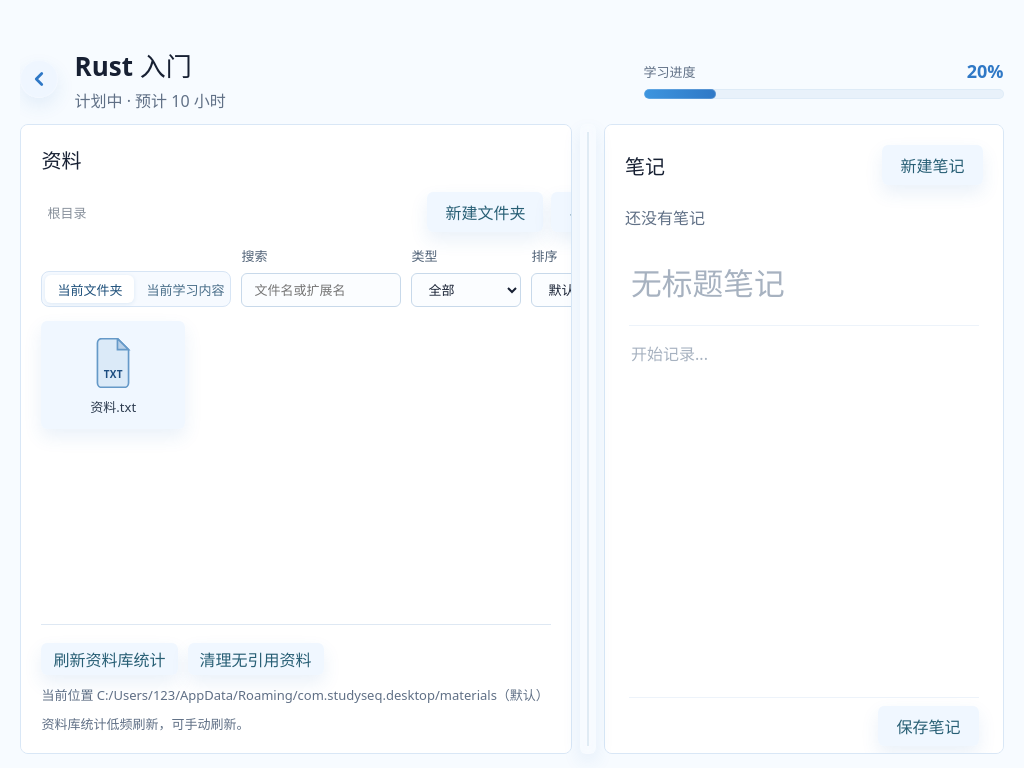
Test: StudyDetailPage › creates a plain-text note and appends it to the list
The width and height of the screenshot is (1024, 768).
expect the text "还没有笔记" is shown: met, box [625,207,705,229]
In the field named "笔记标题": (804, 285) [629,257,978,313], type "第一条笔记"
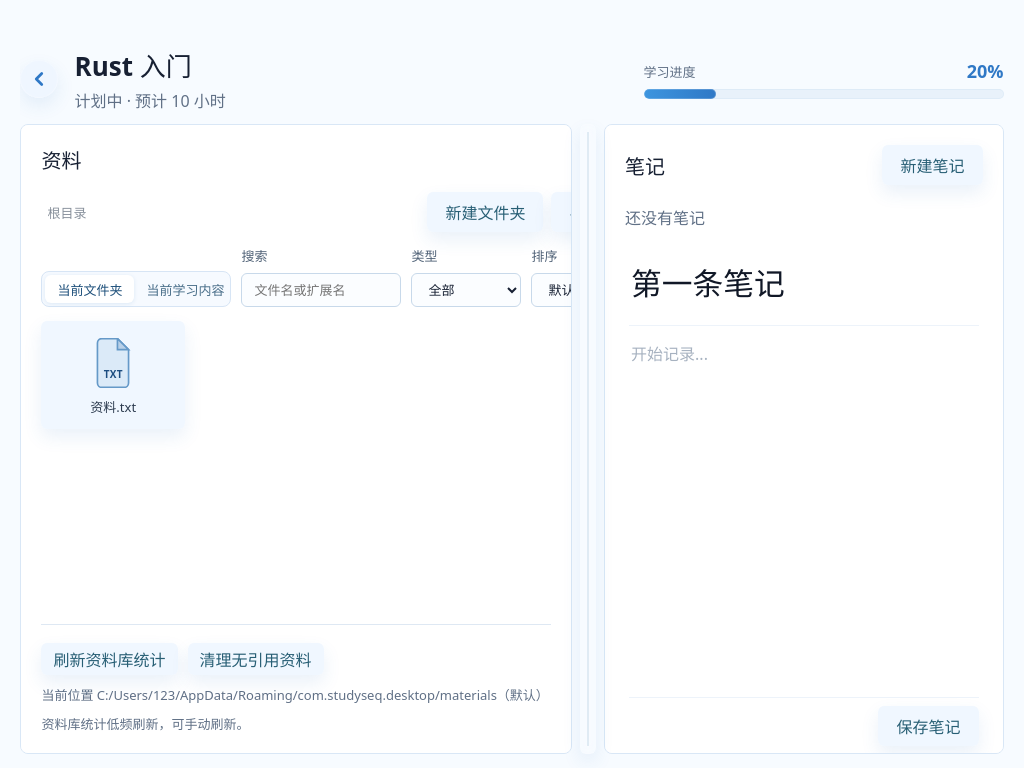
In the text box named "笔记正文": (804, 505) [629,325,978,685], type "纯文本正文"
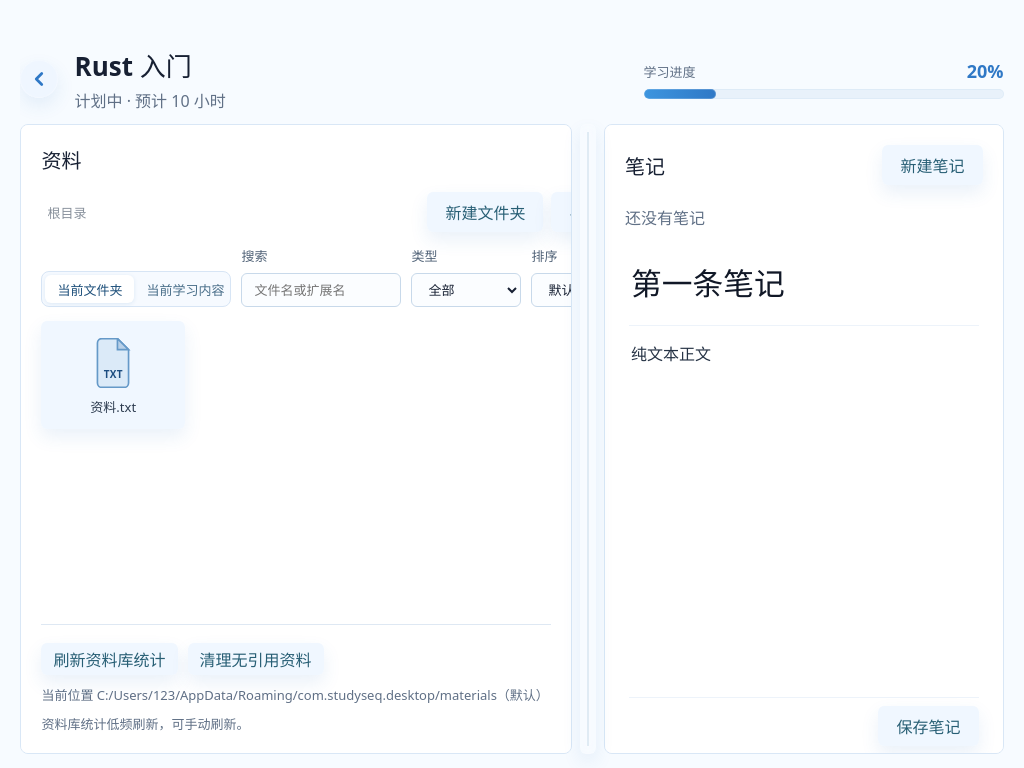
Click the button "保存笔记": (928, 726) [878,706,978,746]
(page scrolled)
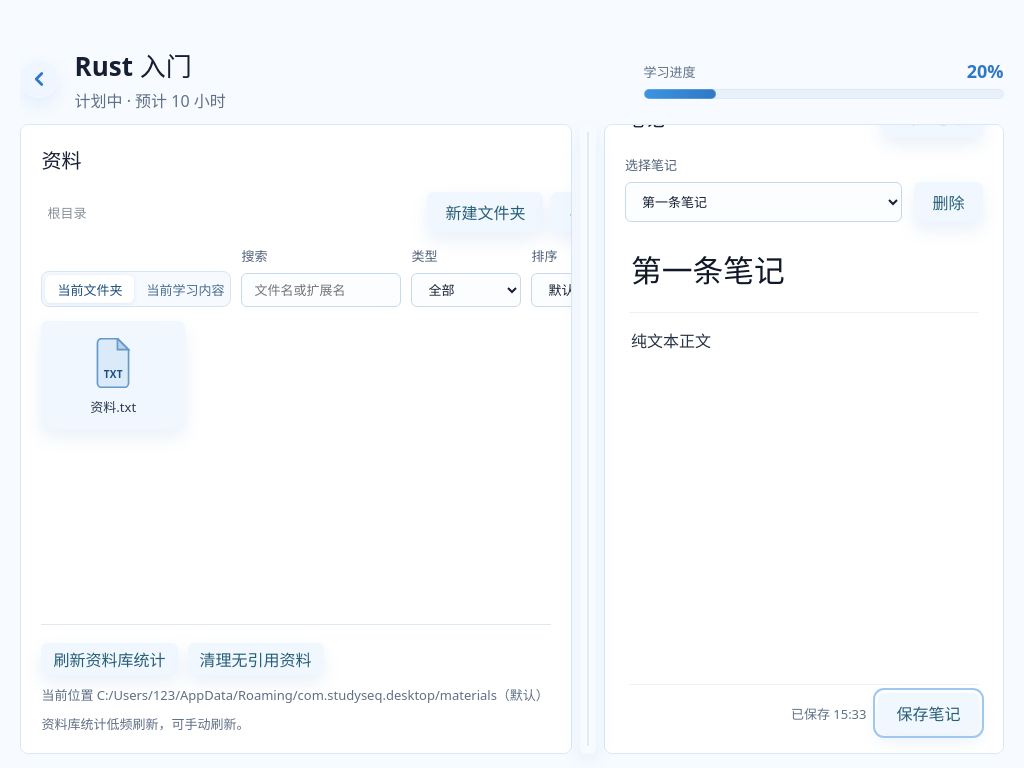
expect the text "已保存 15:33" is shown: met, box [791,704,866,722]
